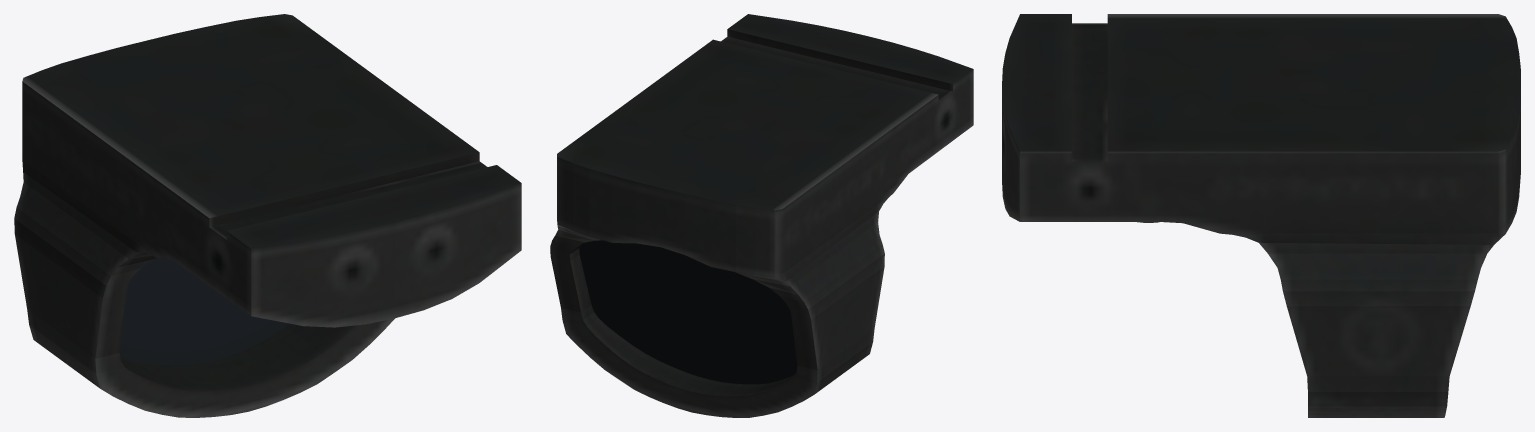
3 views of the same model, side by side, from view 1: azimuth 30°, elevation 25°; view 2: azimuth 150°, elevation 25°; view 3: azimuth 270°, elevation 25° (orthographic). The views are drawn at different scales.
Parts seen in each view (by area): view 1: TW_58d268fc86f774111273f8c2_PZ_Import; view 2: TW_58d268fc86f774111273f8c2_PZ_Import; view 3: TW_58d268fc86f774111273f8c2_PZ_Import.
Boxes of the visible parts, left/top/right/bottom form: TW_58d268fc86f774111273f8c2_PZ_Import: left=14, top=14, right=521, bottom=417; TW_58d268fc86f774111273f8c2_PZ_Import: left=550, top=14, right=973, bottom=417; TW_58d268fc86f774111273f8c2_PZ_Import: left=1002, top=14, right=1520, bottom=417.
Size of the model in its own units: 0.0178 by 0.0245 by 0.0162.
1 material, 1 textured.
